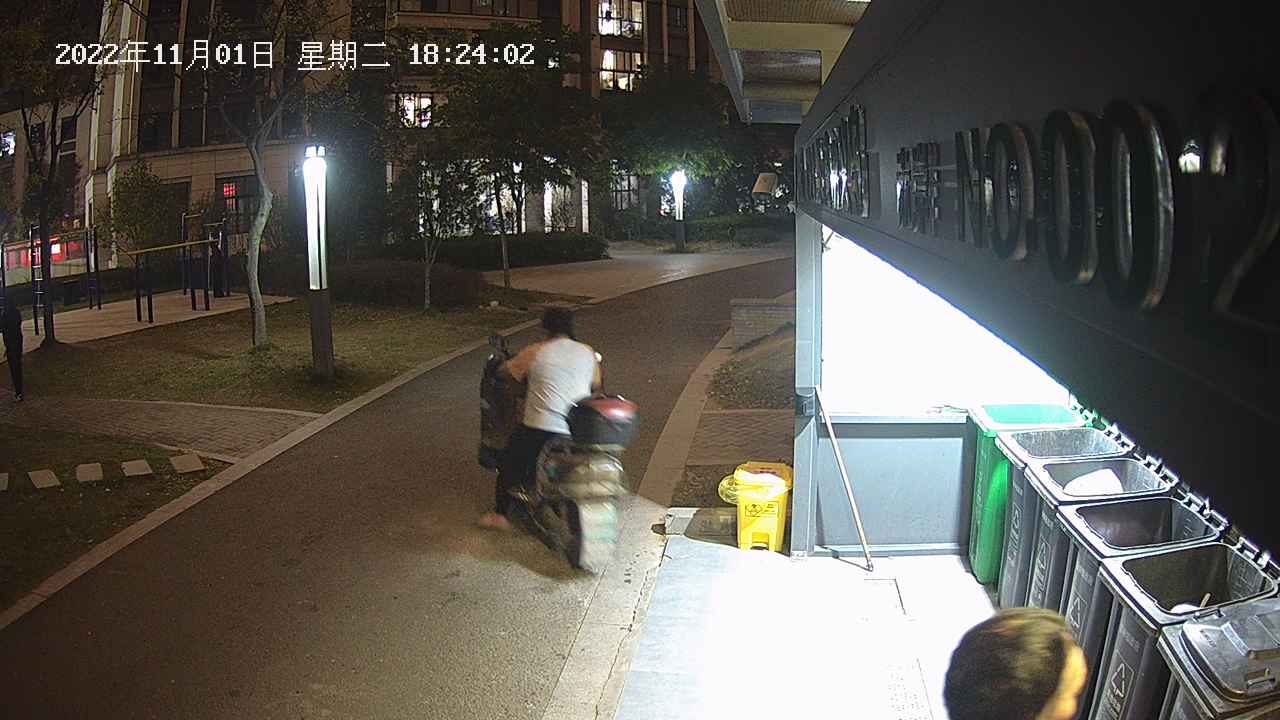person: (474, 305, 606, 534), (941, 604, 1094, 720)
